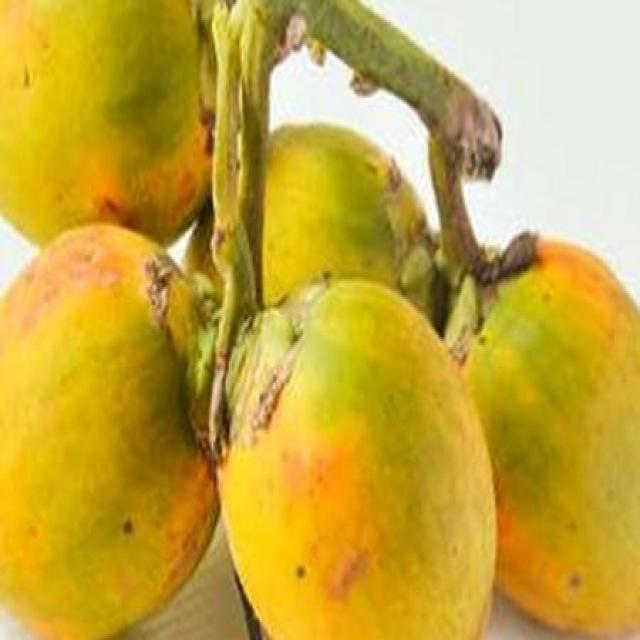good: (215, 273, 498, 638), (0, 223, 220, 638), (462, 235, 639, 638)
